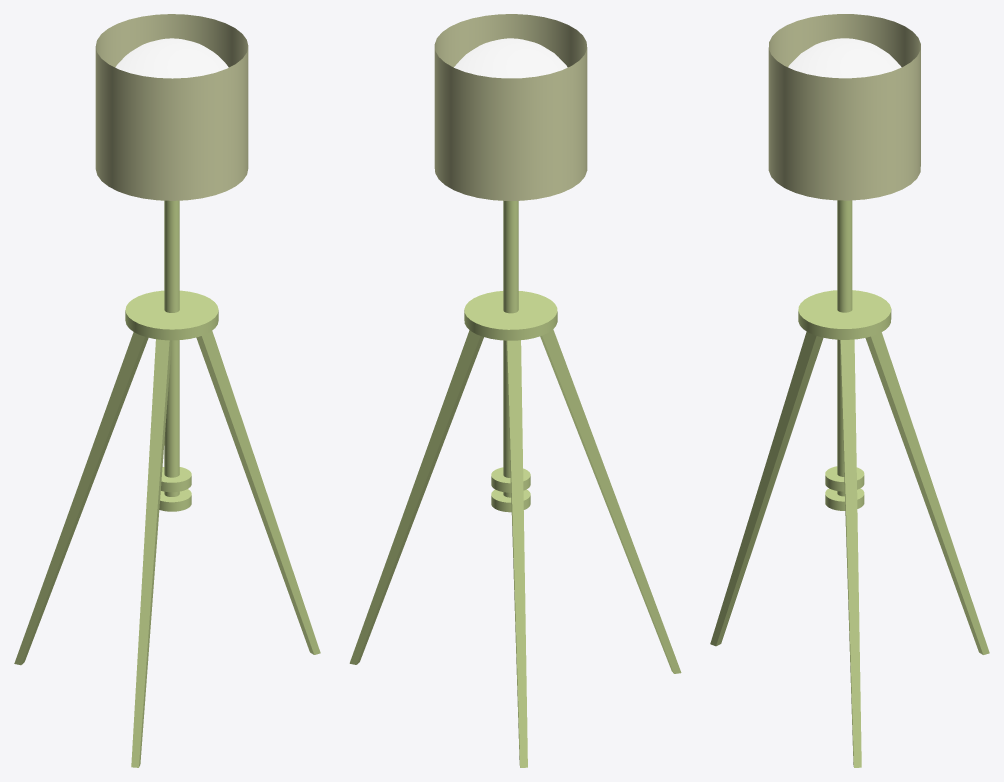
File: lamp_neutral.glb
3 renders of one model, left to right at view 1: azimuth 30°, elevation 25°; view 2: azimuth 150°, elevation 25°; view 3: azimuth 270°, elevation 25°, orthographic.
Visible parts, largest first — view 1: lamp_neutral; view 2: lamp_neutral; view 3: lamp_neutral.
Part boxes in pixels (x1=…): lamp_neutral: x1=14, y1=14, x2=320, y2=767; lamp_neutral: x1=349, y1=14, x2=681, y2=767; lamp_neutral: x1=710, y1=14, x2=989, y2=767.
Bounding box in the file's own units: 0.8641 × 2.07 × 0.8092.
